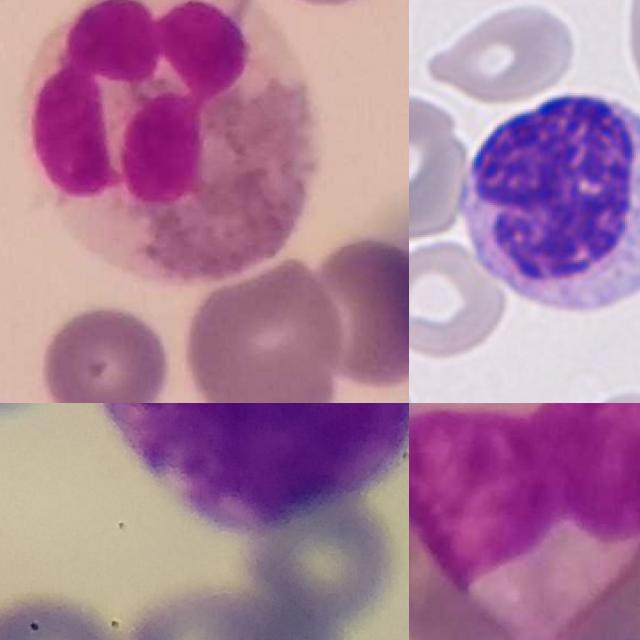Basophil: (88, 403, 409, 539)
Eosinophil: (27, 0, 319, 287)
Lymphocyte: (449, 80, 640, 324)
Monocyte: (409, 403, 640, 640)
RBC: (424, 0, 580, 105), (409, 236, 513, 361), (409, 89, 475, 238)
